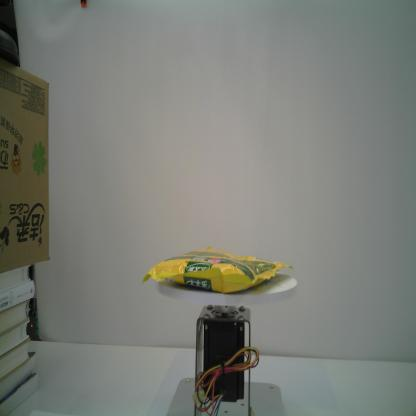Seasoner: (141, 246, 294, 294)
